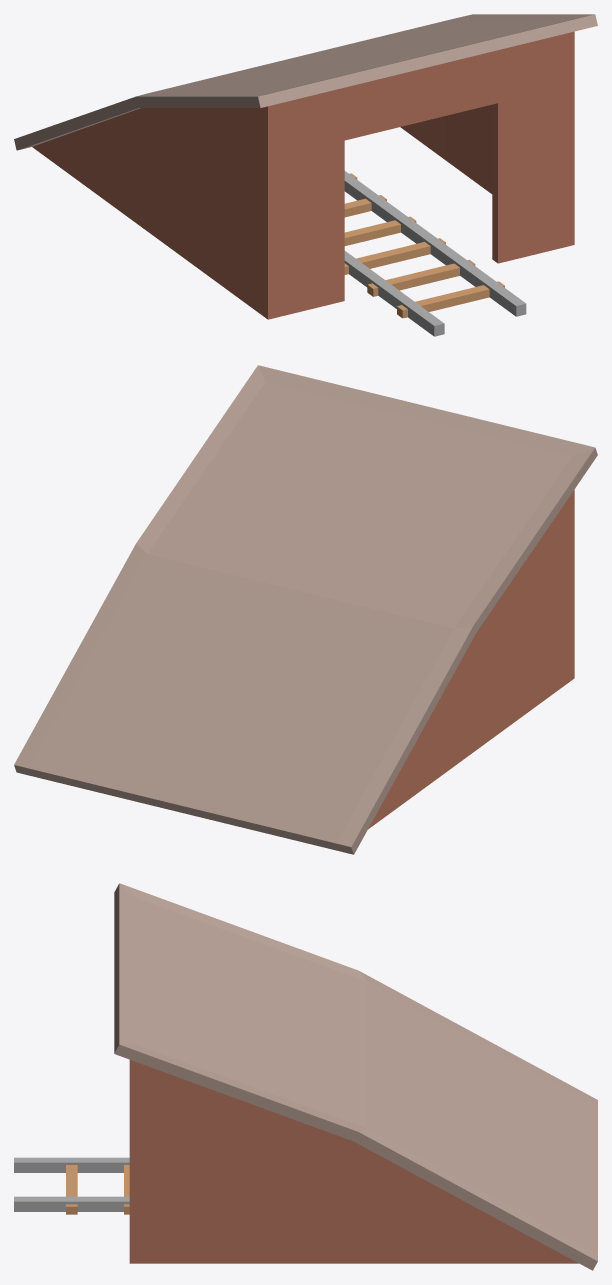
Rendered from SM_Mine_01.fbx.
3 views of the same model, one above another, from view 1: azimuth 30°, elevation 25°; view 2: azimuth 150°, elevation 25°; view 3: azimuth 270°, elevation 25° (orthographic).
Parts seen in each view (by area): view 1: SM_Mine_01, Cube.003, Cube.002; view 2: SM_Mine_01; view 3: SM_Mine_01, Cube.003, Cube.002.
Part boxes in pixels (x1,y1,x2,y2): SM_Mine_01: (14,14,597,319); Cube.003: (344,171,526,336); Cube.002: (344,173,504,318); SM_Mine_01: (14,365,597,854); SM_Mine_01: (114,883,597,1270); Cube.003: (14,1157,129,1211); Cube.002: (66,1165,129,1214).
Size of the model in its own units: 330 by 216 by 504.
